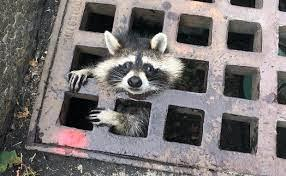raccoon: (58, 19, 213, 157)
